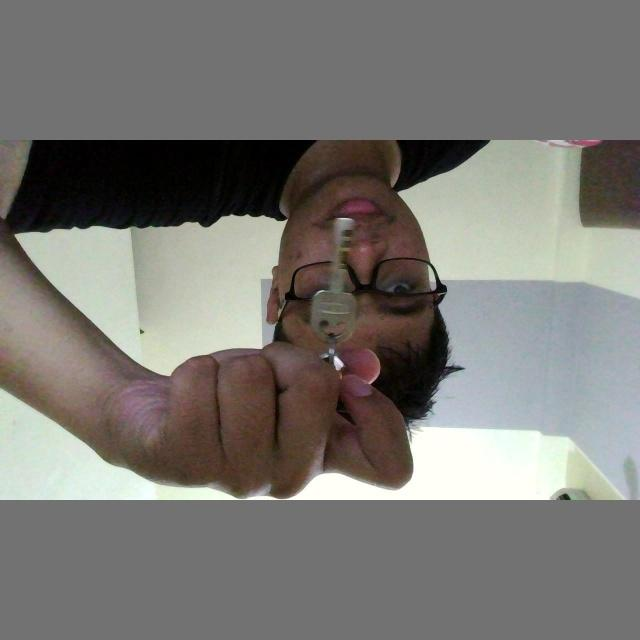Keys: (310, 214, 368, 354)
